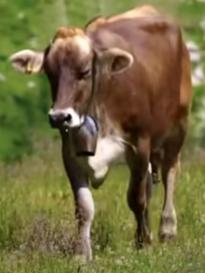cow: (10, 6, 193, 263)
